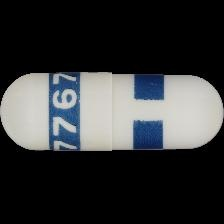61919-045: (0, 0, 224, 224)
